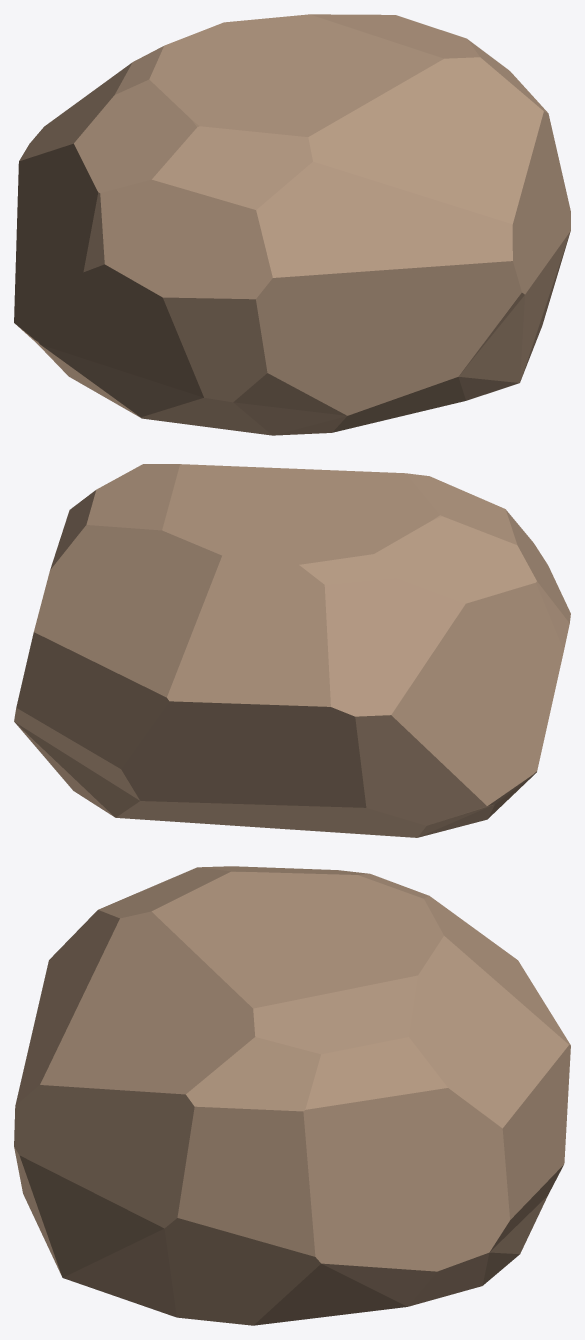
Rendered from SM_Clay_001.fbx.
The picture shows the model from 3 angles, top to bottom: view 1: azimuth 30°, elevation 25°; view 2: azimuth 150°, elevation 25°; view 3: azimuth 270°, elevation 25°; orthographic projection. The views are drawn at different scales.
Parts seen in each view (by area): view 1: Clay; view 2: Clay; view 3: Clay.
Part boxes in pixels (x1=…): Clay: x1=14, y1=14, x2=570, y2=435; Clay: x1=14, y1=464, x2=570, y2=837; Clay: x1=14, y1=866, x2=570, y2=1325.
Bounding box in the file's own units: 20 × 10 × 18.
